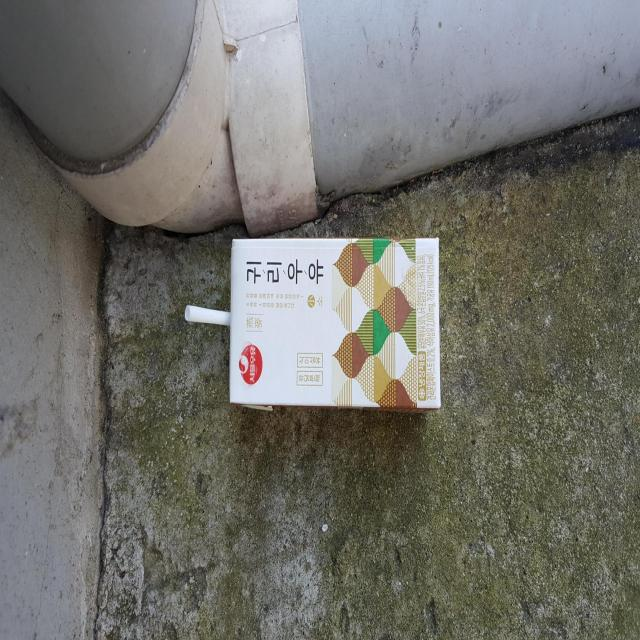paperpack: (229, 237, 441, 409)
